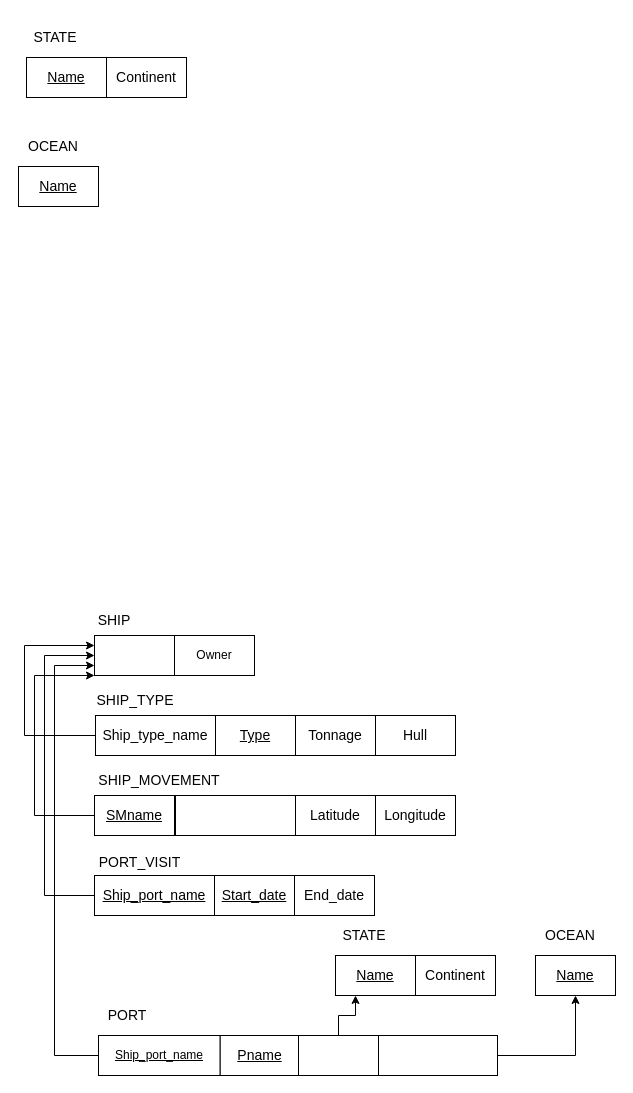
Some shapes in this 633 by 1093 pixel diagram are drawn without their labels. Each missing label, with the box of its shape:
Ocean_name: (378, 1034, 498, 1076)
Sname: (94, 634, 174, 676)
St_name: (298, 1034, 378, 1076)
Time_stamp: (174, 794, 296, 836)
